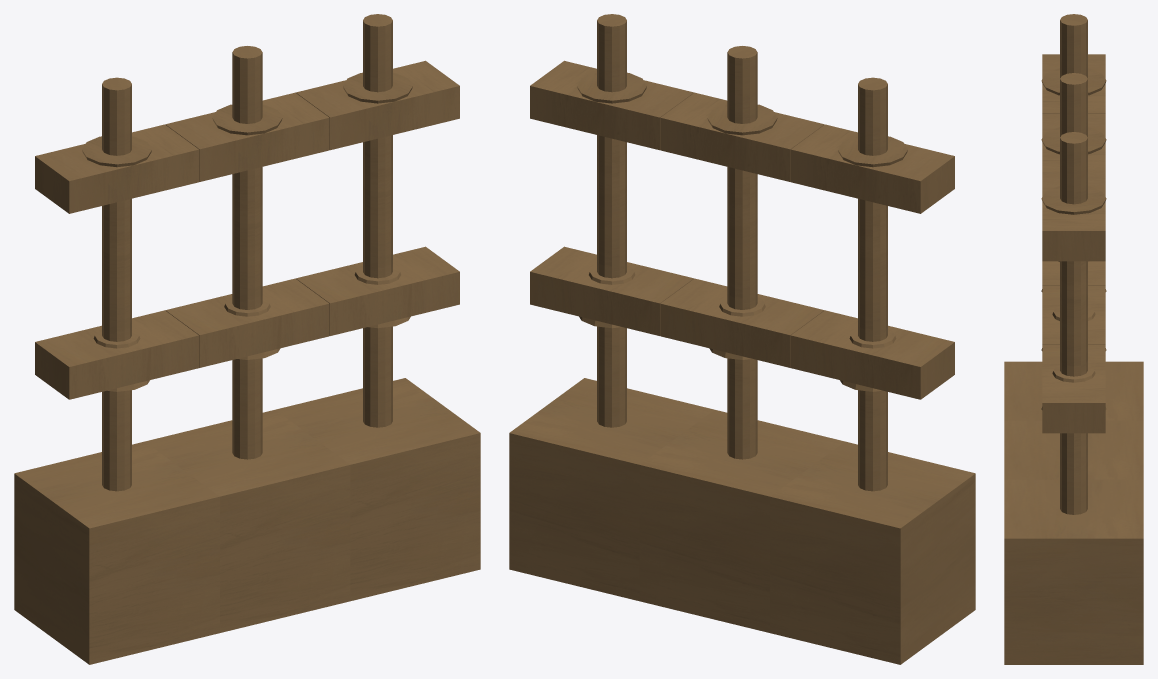
Rendered from Railingx3.glb.
3 renders of one model, left to right at view 1: azimuth 30°, elevation 25°; view 2: azimuth 150°, elevation 25°; view 3: azimuth 270°, elevation 25°, orthographic. The views are drawn at different scales.
Visible parts, largest first — view 1: Railingx3; view 2: Railingx3; view 3: Railingx3.
Boxes of the visible parts, bbox=[...] form: Railingx3: bbox=[14, 14, 480, 664]; Railingx3: bbox=[509, 14, 975, 664]; Railingx3: bbox=[1004, 14, 1143, 664].
Bounding box in the file's own units: 6 × 7.88 × 2.
1 material, 1 textured.
